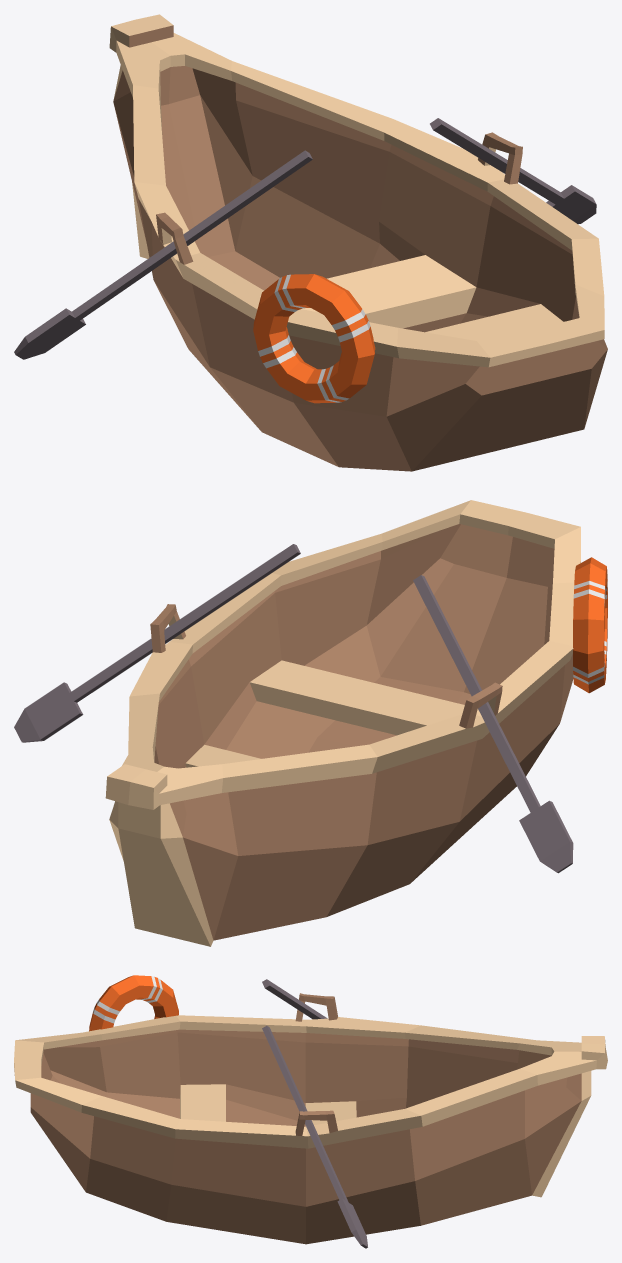
The model's file is boat(3).fbx.
The picture shows the model from 3 angles, top to bottom: view 1: azimuth 30°, elevation 25°; view 2: azimuth 150°, elevation 25°; view 3: azimuth 270°, elevation 25°; orthographic projection. The views are drawn at different scales.
Parts seen in each view (by area): view 1: 环体; view 2: 环体; view 3: 环体.
Part boxes in pixels (<box>): 环体: <box>14,14,607,471</box>; 环体: <box>14,500,607,946</box>; 环体: <box>14,975,607,1248</box>.
Bounding box in the file's own units: 710 × 348 × 880.
